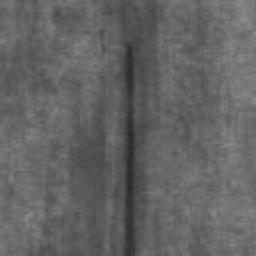Scratches: (124, 41, 137, 256)
